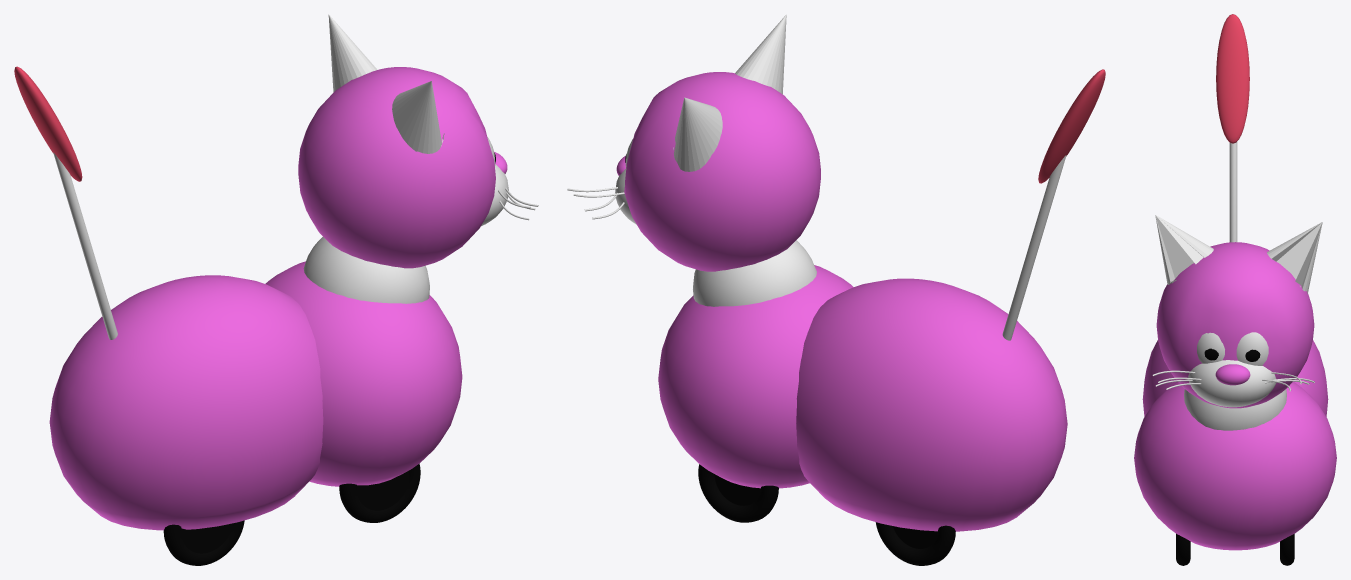
Rendered from kocicka_to_unity_new.fbx.
The picture shows the model from 3 angles, left to right: view 1: azimuth 30°, elevation 25°; view 2: azimuth 150°, elevation 25°; view 3: azimuth 270°, elevation 25°; orthographic projection. The views are drawn at different scales.
Parts seen in each view (by area): view 1: Sphere.001, Sphere.003, Sphere, Sphere.002, Cone, Sphere.010, Circle, Cone.001, Torus.004, Torus.003, Circle.003, Circle.001 (+1 smaller); view 2: Sphere.001, Sphere.003, Sphere, Sphere.002, Cone.001, Sphere.010, Cone, Circle, Torus.002, Torus.001, Circle.002, Circle.004; view 3: Sphere, Sphere.003, Sphere.010, Sphere.004, Sphere.001, Sphere.002, Cone, Cone.001, Circle, Sphere.007, Sphere.005, Sphere.006 (+2 smaller).
Part boxes in pixels (left/top/right/bottom): Sphere.001: left=49, top=275, right=323, bottom=530; Sphere.003: left=298, top=67, right=495, bottom=268; Sphere: left=265, top=261, right=462, bottom=486; Sphere.002: left=303, top=237, right=429, bottom=303; Cone: left=392, top=81, right=444, bottom=153; Sphere.010: left=14, top=66, right=82, bottom=181; Circle: left=53, top=152, right=117, bottom=339; Cone.001: left=328, top=14, right=377, bottom=92; Torus.004: left=339, top=463, right=420, bottom=522; Torus.003: left=163, top=520, right=244, bottom=565; Circle.003: left=357, top=471, right=409, bottom=510; Circle.001: left=181, top=523, right=233, bottom=553; Sphere.001: left=796, top=278, right=1067, bottom=531; Sphere.003: left=624, top=72, right=820, bottom=271; Sphere: left=658, top=265, right=853, bottom=488; Sphere.002: left=693, top=240, right=816, bottom=306; Cone.001: left=673, top=97, right=722, bottom=171; Sphere.010: left=1038, top=69, right=1105, bottom=183; Cone: left=735, top=14, right=786, bottom=94; Circle: left=1002, top=155, right=1066, bottom=340; Torus.002: left=698, top=464, right=778, bottom=522; Torus.001: left=875, top=522, right=955, bottom=565; Circle.002: left=714, top=474, right=760, bottom=505; Circle.004: left=893, top=526, right=937, bottom=548; Sphere: left=1134, top=381, right=1336, bottom=550; Sphere.003: left=1156, top=242, right=1314, bottom=408; Sphere.010: left=1216, top=14, right=1249, bottom=143; Sphere.004: left=1188, top=360, right=1276, bottom=407; Sphere.001: left=1142, top=340, right=1328, bottom=416; Sphere.002: left=1184, top=389, right=1286, bottom=430; Cone: left=1155, top=215, right=1213, bottom=284; Cone.001: left=1267, top=222, right=1322, bottom=293; Circle: left=1229, top=141, right=1237, bottom=242; Sphere.007: left=1236, top=332, right=1268, bottom=365; Sphere.005: left=1215, top=364, right=1250, bottom=385; Sphere.006: left=1197, top=332, right=1224, bottom=363.
Bounding box in the file's own units: 303 × 294 × 130.
